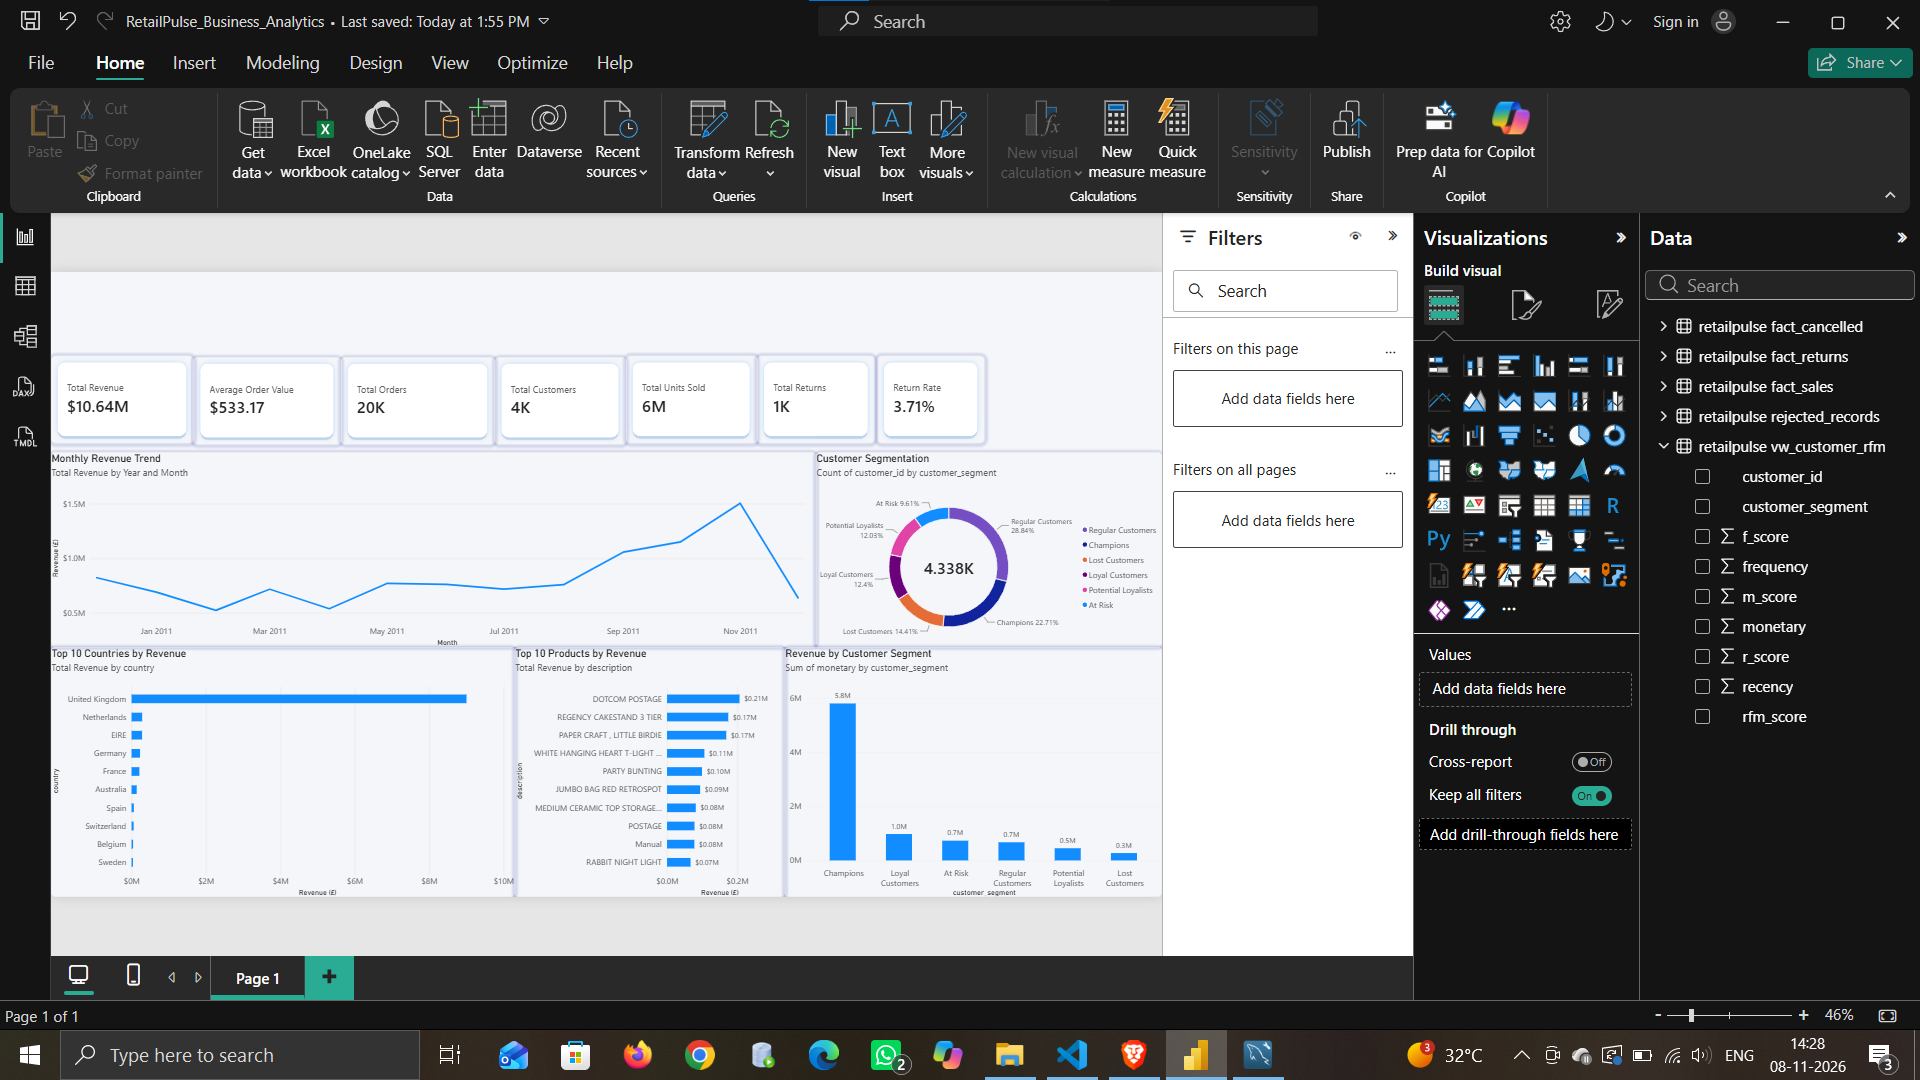

The dashboard page shown, as its layout file describes it:
{"tool":"powerbi","page":{"name":"Page 1","canvas":[1920,1080],"ordinal":0},"visuals":[{"type":"cardVisual","fields":{"Data":["retailpulse fact_sales.Total Revenue"]},"box":[0,144.7,246.3,151.2],"z":0},{"type":"cardVisual","fields":{"Data":["retailpulse fact_sales.Average Order Value"]},"box":[246.3,144.7,254.9,151.2],"z":1000},{"type":"cardVisual","fields":{"Data":["retailpulse fact_sales.Return Rate"]},"box":[1427.9,144.7,185.8,151.2],"z":2000},{"type":"cardVisual","fields":{"Data":["retailpulse fact_sales.Total Customers"]},"box":[766.9,146.9,226.8,151.2],"z":3000},{"type":"cardVisual","fields":{"Data":["retailpulse fact_sales.Total Orders"]},"box":[501.2,146.9,265.7,151.2],"z":4000},{"type":"cardVisual","fields":{"Data":["retailpulse fact_sales.Total Returns"]},"box":[1220.5,144.7,203.1,151.2],"z":5000},{"type":"cardVisual","fields":{"Data":["retailpulse fact_sales.Total Units Sold"]},"box":[993.7,144.7,226.8,151.2],"z":6000},{"type":"lineChart","title":"Monthly Revenue Trend","fields":{"Category":["retailpulse fact_sales.invoice_date.Variation.Date Hierarchy.Year","retailpulse fact_sales.invoice_date.Variation.Date Hierarchy.Month"],"Y":["retailpulse fact_sales.Total Revenue"]},"box":[16.4,312.5,1090.1,319.8],"z":7000},{"type":"clusteredBarChart","title":"Top 10 Countries by Revenue","fields":{"Category":["retailpulse fact_sales.country"],"Y":["retailpulse fact_sales.Total Revenue"]},"box":[16.4,646.8,772.1,417.9],"z":8000},{"type":"clusteredBarChart","title":"Top 10 Products by Revenue","fields":{"Category":["retailpulse fact_sales.description"],"Y":["retailpulse fact_sales.Total Revenue"]},"box":[801.2,648.6,466.9,416],"z":9000},{"type":"donutChart","title":"Customer Segmentation – Overall","fields":{"Category":["retailpulse vw_customer_rfm.customer_segment"],"Y":["Count(retailpulse vw_customer_rfm.customer_id)"]},"box":[1111.9,312.5,516,319.8],"z":10000},{"type":"clusteredColumnChart","title":"Revenue by Customer Segment","fields":{"Category":["retailpulse vw_customer_rfm.customer_segment"],"Y":["Sum(retailpulse vw_customer_rfm.monetary)"]},"box":[1280.9,646.8,625,417.9],"z":11000},{"type":"textbox","box":[635.1,36.7,559.5,58.3],"z":12000},{"type":"textbox","box":[635.1,95,559.5,49.7],"z":13000},{"type":"slicer","title":"Select Country","fields":{"Values":["Dim_Country.Country"]},"box":[1628.5,144.9,276.8,153.5],"z":14000},{"type":"slicer","title":"Select Date Range","fields":{"Values":["Dim_Date.Date"]},"box":[1631,311.9,273.8,166.7],"z":15000},{"type":"slicer","fields":{"Values":["retailpulse vw_customer_rfm.customer_segment"]},"box":[1631.5,497.8,274.3,134.4],"z":15001}]}

Visuals, with their boxes on the page's 1920x1080 design canvas (x1, y1, x2, y2). These are canvas units, not pixel positions in the 1920x1080 screenshot, which may show the page scaled, cropped or inside an application window:
cardVisual - retailpulse fact_sales.Total Revenue: locate(0, 145, 246, 296)
cardVisual - retailpulse fact_sales.Average Order Value: locate(246, 145, 501, 296)
cardVisual - retailpulse fact_sales.Return Rate: locate(1428, 145, 1614, 296)
cardVisual - retailpulse fact_sales.Total Customers: locate(767, 147, 994, 298)
cardVisual - retailpulse fact_sales.Total Orders: locate(501, 147, 767, 298)
cardVisual - retailpulse fact_sales.Total Returns: locate(1220, 145, 1424, 296)
cardVisual - retailpulse fact_sales.Total Units Sold: locate(994, 145, 1220, 296)
"Monthly Revenue Trend" lineChart: locate(16, 312, 1106, 632)
"Top 10 Countries by Revenue" clusteredBarChart: locate(16, 647, 788, 1065)
"Top 10 Products by Revenue" clusteredBarChart: locate(801, 649, 1268, 1065)
"Customer Segmentation – Overall" donutChart: locate(1112, 312, 1628, 632)
"Revenue by Customer Segment" clusteredColumnChart: locate(1281, 647, 1906, 1065)
textbox: locate(635, 37, 1195, 95)
textbox: locate(635, 95, 1195, 145)
"Select Country" slicer: locate(1628, 145, 1905, 298)
"Select Date Range" slicer: locate(1631, 312, 1905, 479)
slicer - retailpulse vw_customer_rfm.customer_segment: locate(1632, 498, 1906, 632)
